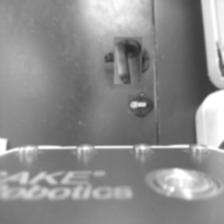Door Handle: (109, 41, 147, 79)
Lock: (130, 93, 153, 116)
